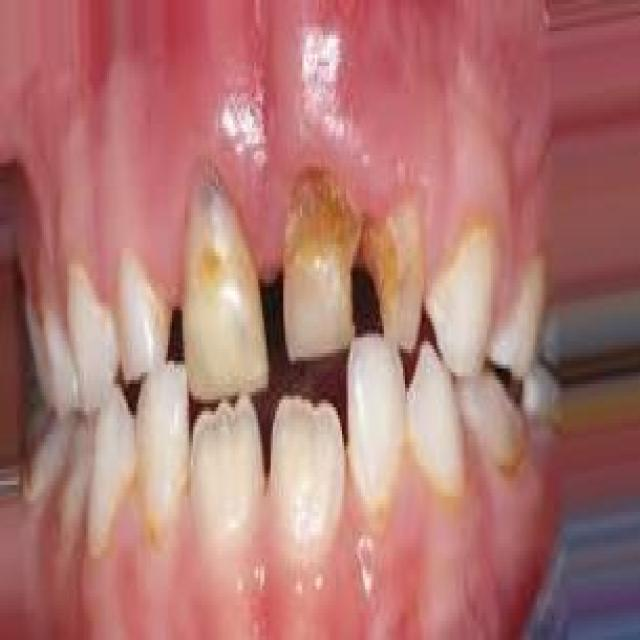caries: (279, 162, 359, 356), (356, 208, 426, 343)
